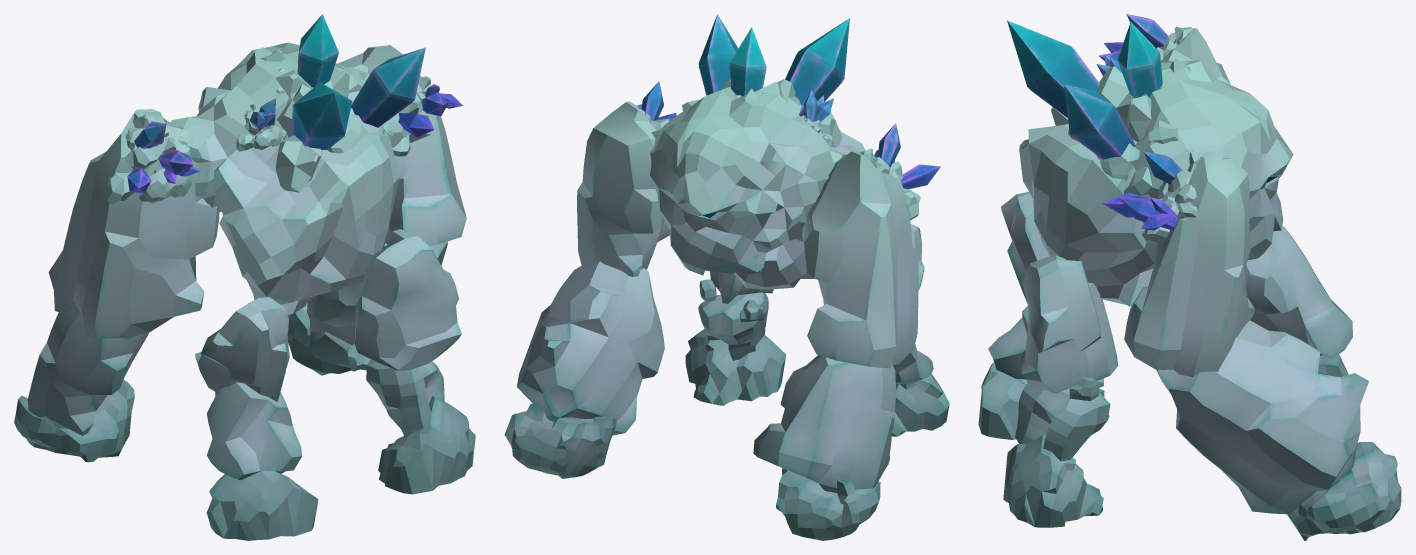
Rendered from golem.glb.
3 renders of one model, left to right at view 1: azimuth 30°, elevation 25°; view 2: azimuth 150°, elevation 25°; view 3: azimuth 270°, elevation 25°, orthographic. The views are drawn at different scales.
Visible parts, largest first — view 1: pasted__polySurface686_lambert1_0, polySurface73_blinn1_0; view 2: pasted__polySurface686_lambert1_0, polySurface73_blinn1_0; view 3: pasted__polySurface686_lambert1_0, polySurface73_blinn1_0.
Part boxes in pixels (x1,y1,x2,y2): pasted__polySurface686_lambert1_0: [14, 42, 475, 540]; polySurface73_blinn1_0: [127, 14, 462, 193]; pasted__polySurface686_lambert1_0: [504, 79, 949, 540]; polySurface73_blinn1_0: [637, 14, 940, 189]; pasted__polySurface686_lambert1_0: [978, 26, 1401, 540]; polySurface73_blinn1_0: [1007, 14, 1185, 230].
Bounding box in the file's own units: 4.18 × 4.72 × 3.83.
Materials: 4 (3 with a texture image).
